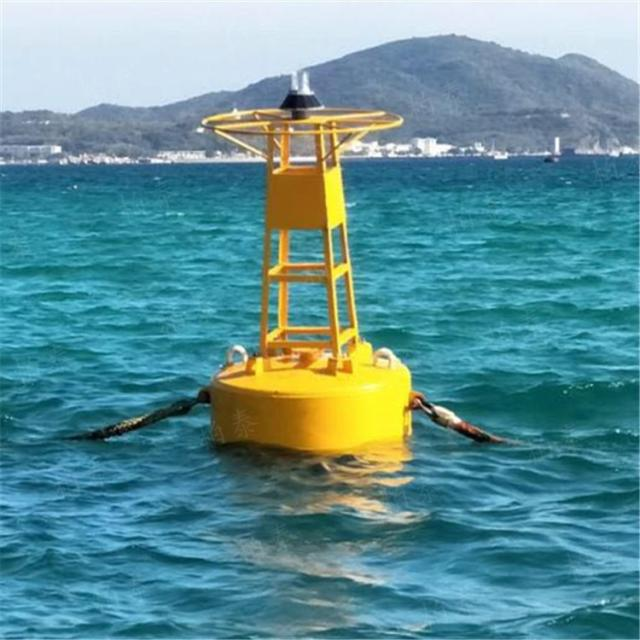buoy: (189, 68, 426, 456)
